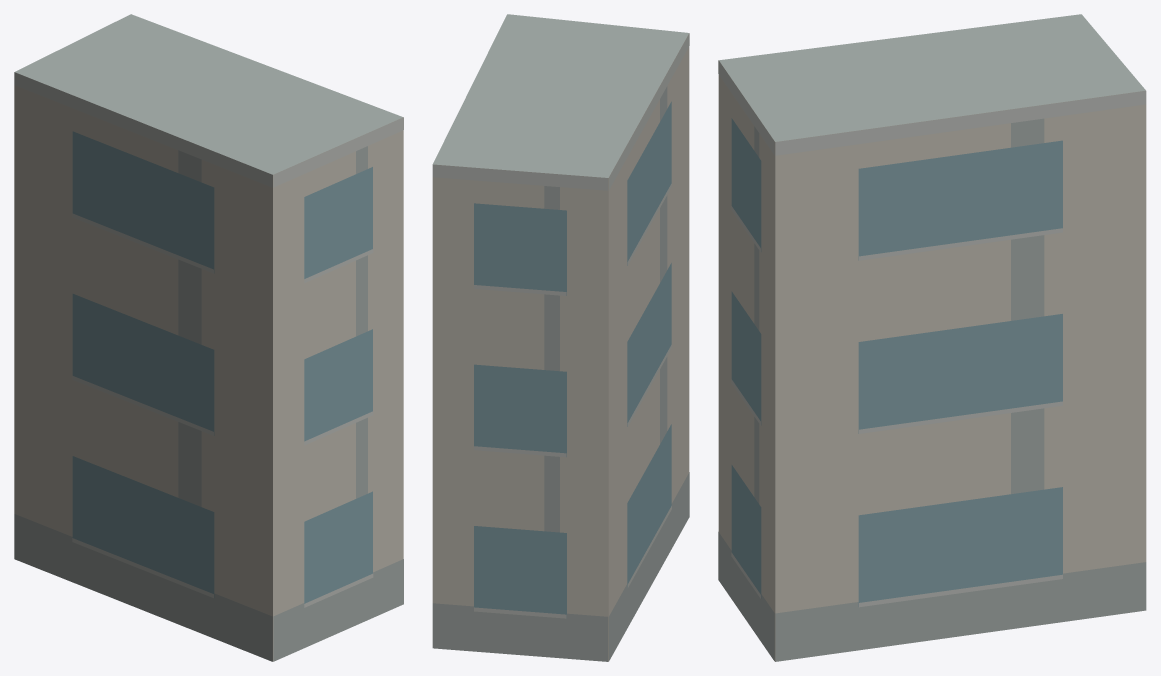
Rendered from survey-upis-32521035.glb.
3 views of the same model, side by side, from view 1: azimuth 30°, elevation 25°; view 2: azimuth 150°, elevation 25°; view 3: azimuth 270°, elevation 25° (orthographic). The views are drawn at different scales.
Parts seen in each view (by area): view 1: survey-upis-32521035.tmp; view 2: survey-upis-32521035.tmp; view 3: survey-upis-32521035.tmp.
Part boxes in pixels (left/top/right/bottom): survey-upis-32521035.tmp: left=14, top=14, right=403, bottom=661; survey-upis-32521035.tmp: left=432, top=14, right=689, bottom=661; survey-upis-32521035.tmp: left=718, top=14, right=1146, bottom=661.
Size of the model in its own units: 4.84 by 9.15 by 6.83.
